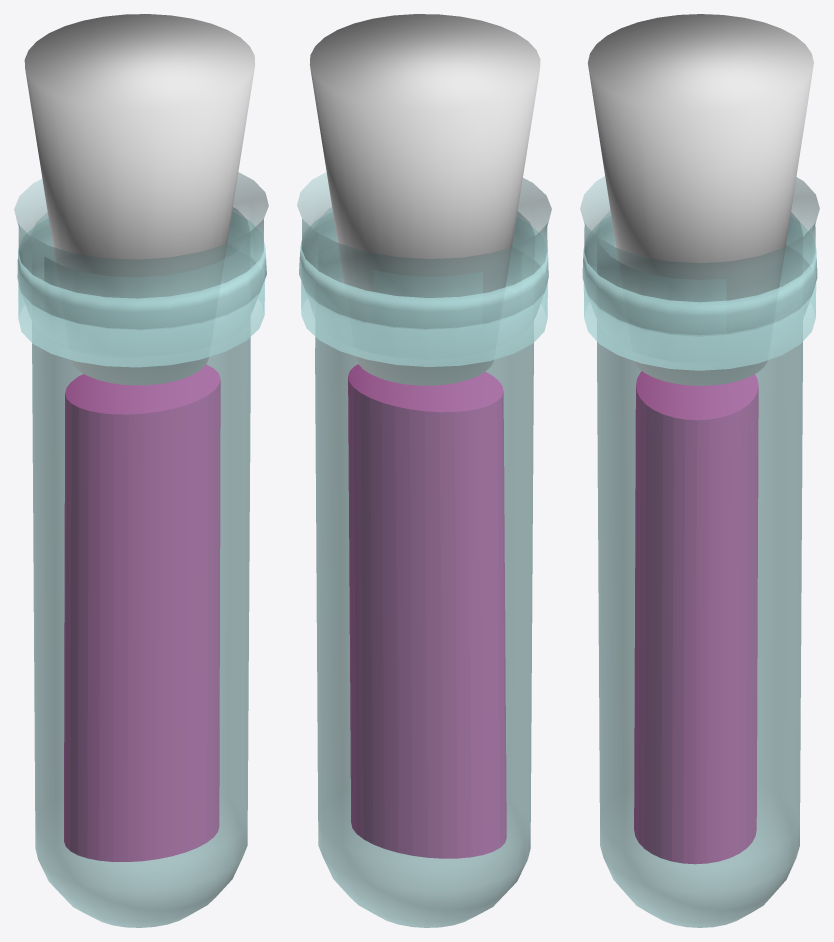
File: potiuneclidindrumodorigin.fbx
3 views of the same model, side by side, from view 1: azimuth 30°, elevation 25°; view 2: azimuth 150°, elevation 25°; view 3: azimuth 270°, elevation 25° (orthographic).
Parts seen in each view (by area): view 1: Sphere.004, Cylinder.001, Cylinder; view 2: Sphere.004, Cylinder.001, Cylinder; view 3: Sphere.004, Cylinder.001, Cylinder.
Part boxes in pixels (bbox=[...]): Sphere.004: bbox=[14, 172, 268, 927]; Cylinder.001: bbox=[64, 364, 220, 861]; Cylinder: bbox=[24, 14, 255, 385]; Sphere.004: bbox=[297, 172, 551, 927]; Cylinder.001: bbox=[348, 364, 506, 858]; Cylinder: bbox=[309, 14, 540, 385]; Sphere.004: bbox=[580, 176, 819, 927]; Cylinder.001: bbox=[634, 371, 758, 864]; Cylinder: bbox=[588, 14, 813, 385].
Size of the model in its own units: 283 by 1030 by 262.
